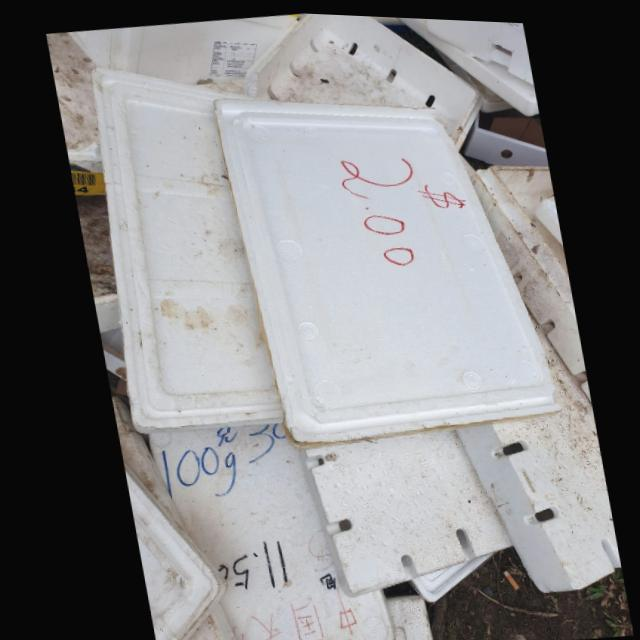styrofoam: (211, 96, 555, 442), (89, 67, 276, 434), (451, 286, 614, 590), (297, 426, 505, 594), (242, 10, 481, 143)
